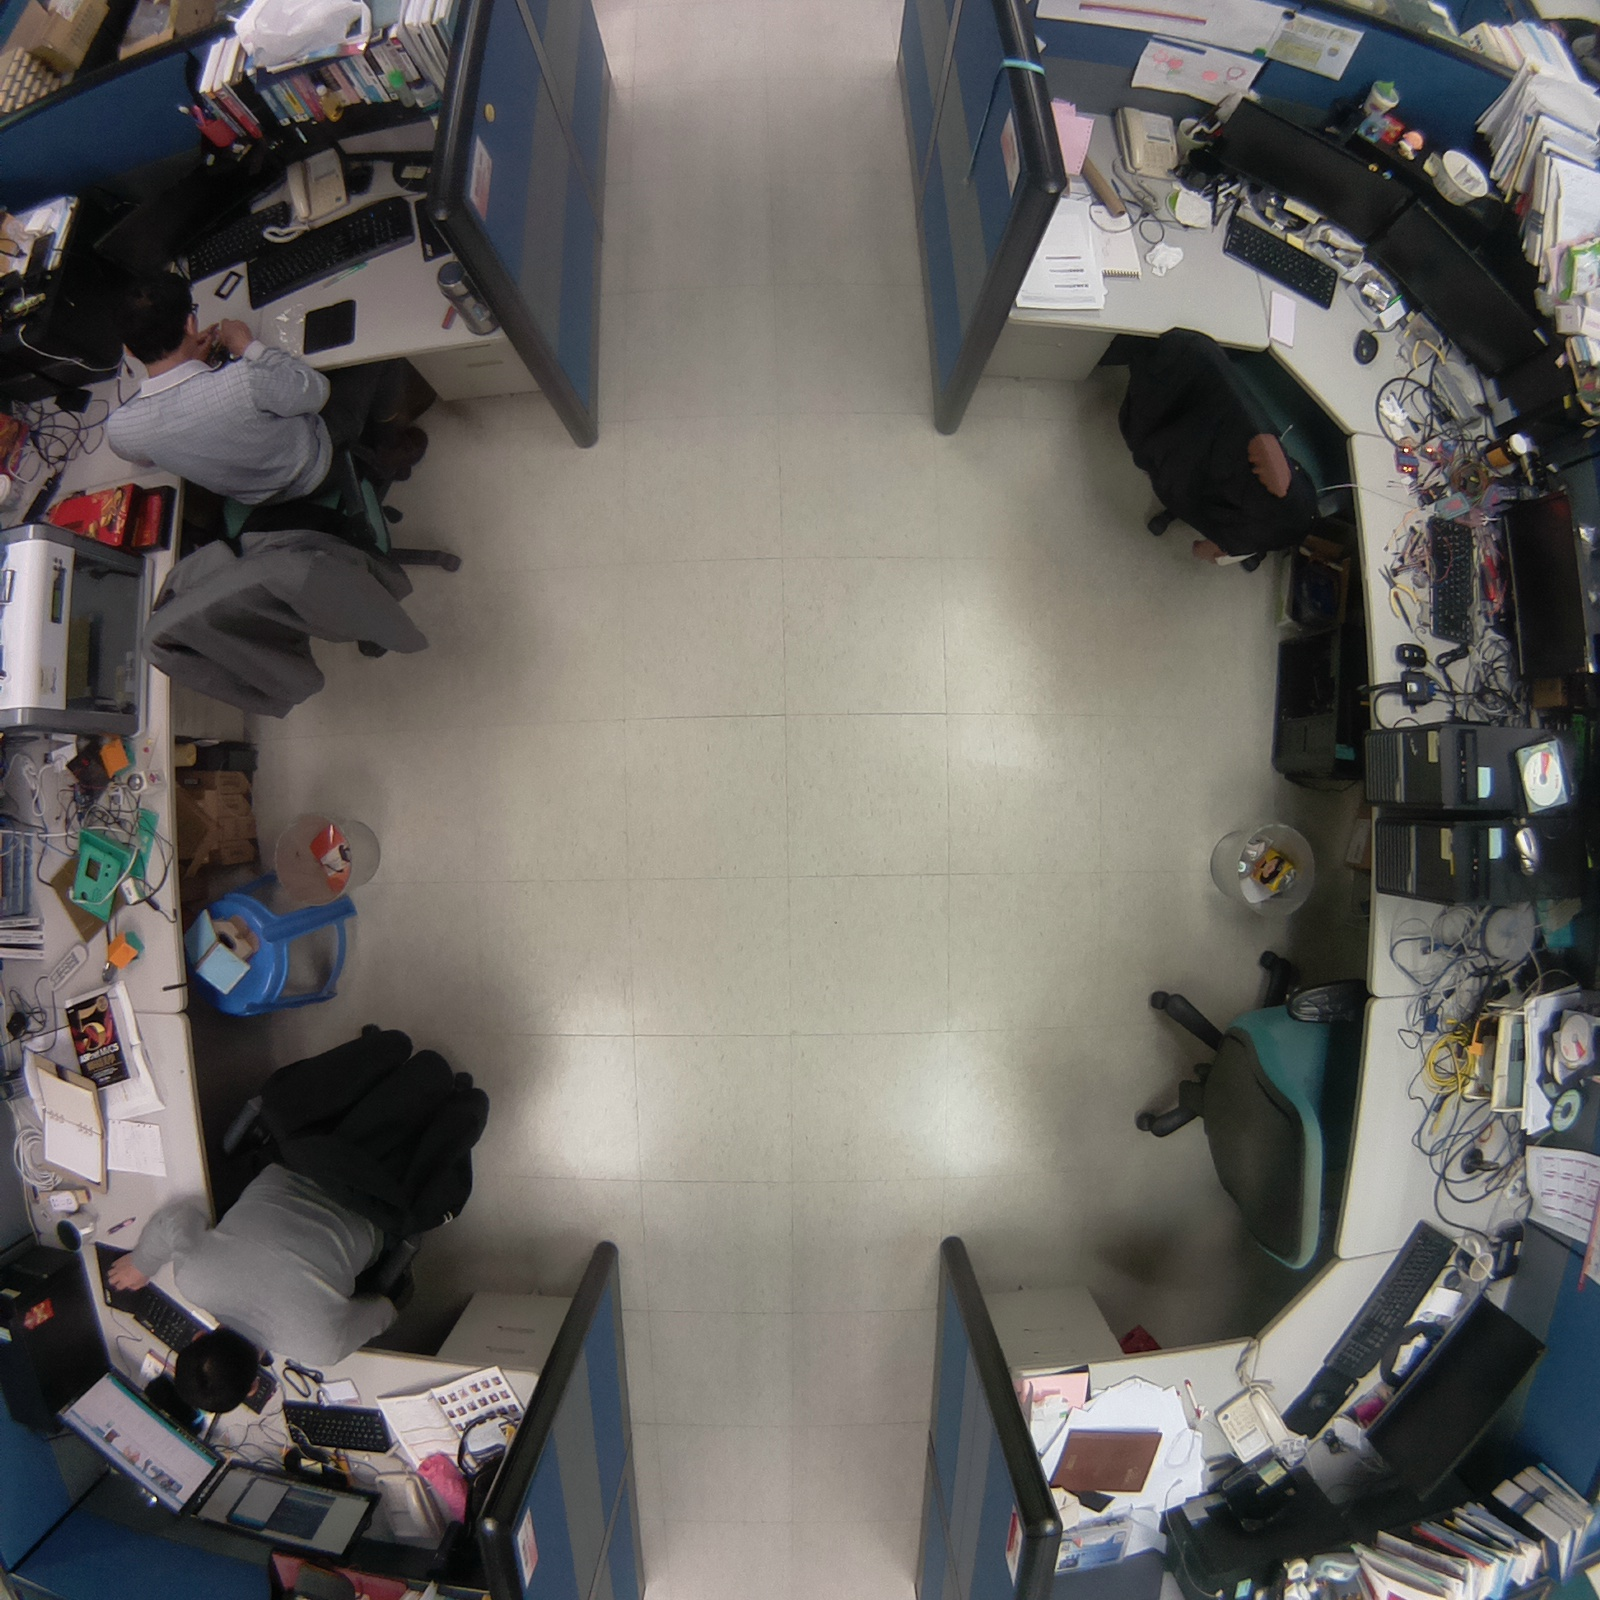chair: (1104, 922, 1381, 1286), (1109, 291, 1365, 596)
head: (159, 1321, 270, 1421), (108, 265, 208, 374)
sitting: (91, 269, 478, 732), (107, 1009, 509, 1411)
